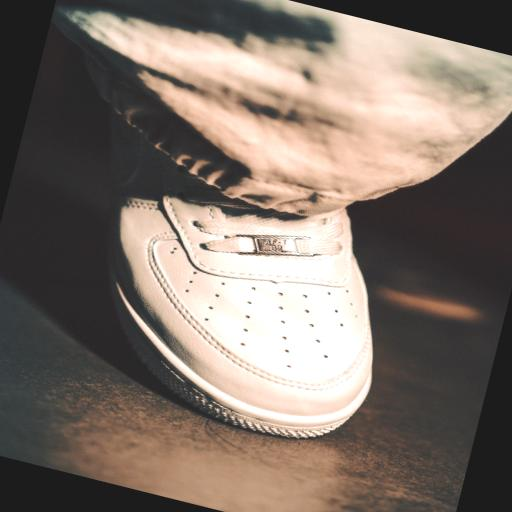shoe: (111, 124, 372, 437)
